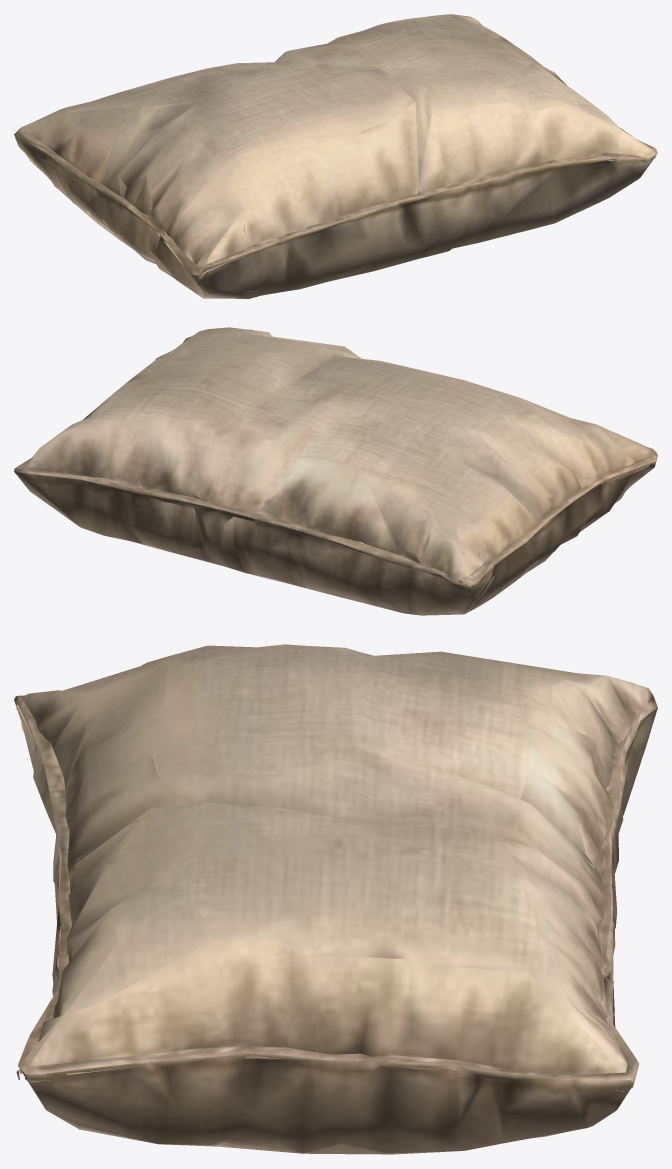
The picture shows the model from 3 angles, top to bottom: view 1: azimuth 30°, elevation 25°; view 2: azimuth 150°, elevation 25°; view 3: azimuth 270°, elevation 25°; orthographic projection. The views are drawn at different scales.
Parts seen in each view (by area): view 1: geometry_0; view 2: geometry_0; view 3: geometry_0.
Boxes of the visible parts, x1,y1,x2,y2 form: geometry_0: (14,14,657,298); geometry_0: (14,327,657,615); geometry_0: (14,644,657,1154).
Bounding box in the file's own units: 0.5996 × 0.1872 × 0.4176.
1 material, 1 textured.
